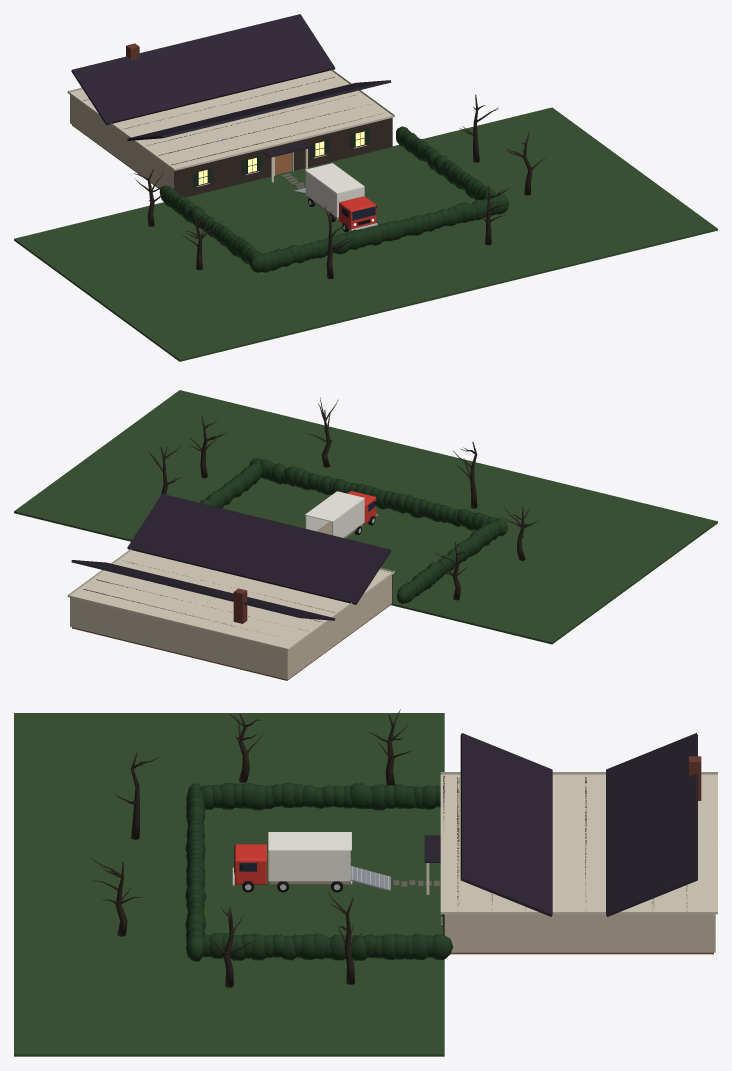
Rendered from mansion.glb.
3 renders of one model, top to bottom at view 1: azimuth 30°, elevation 25°; view 2: azimuth 150°, elevation 25°; view 3: azimuth 270°, elevation 25°, orthographic. The views are drawn at different scales.
Visible parts, largest first — view 1: yard, house, truck, live; view 2: yard, house, truck, live; view 3: yard, house, truck, live.
Part boxes in pixels (<box>): yard: <box>14,14,717,361</box>; house: <box>67,69,394,189</box>; truck: <box>293,163,377,231</box>; live: <box>134,94,545,278</box>; yard: <box>14,390,717,644</box>; house: <box>67,549,394,680</box>; truck: <box>305,491,377,538</box>; live: <box>148,397,538,600</box>; yard: <box>14,713,701,1056</box>; house: <box>440,772,717,954</box>; truck: <box>232,832,390,892</box>; live: <box>91,709,412,987</box>.
Size of the model in its own units: 60 by 7.65 by 52.3.
